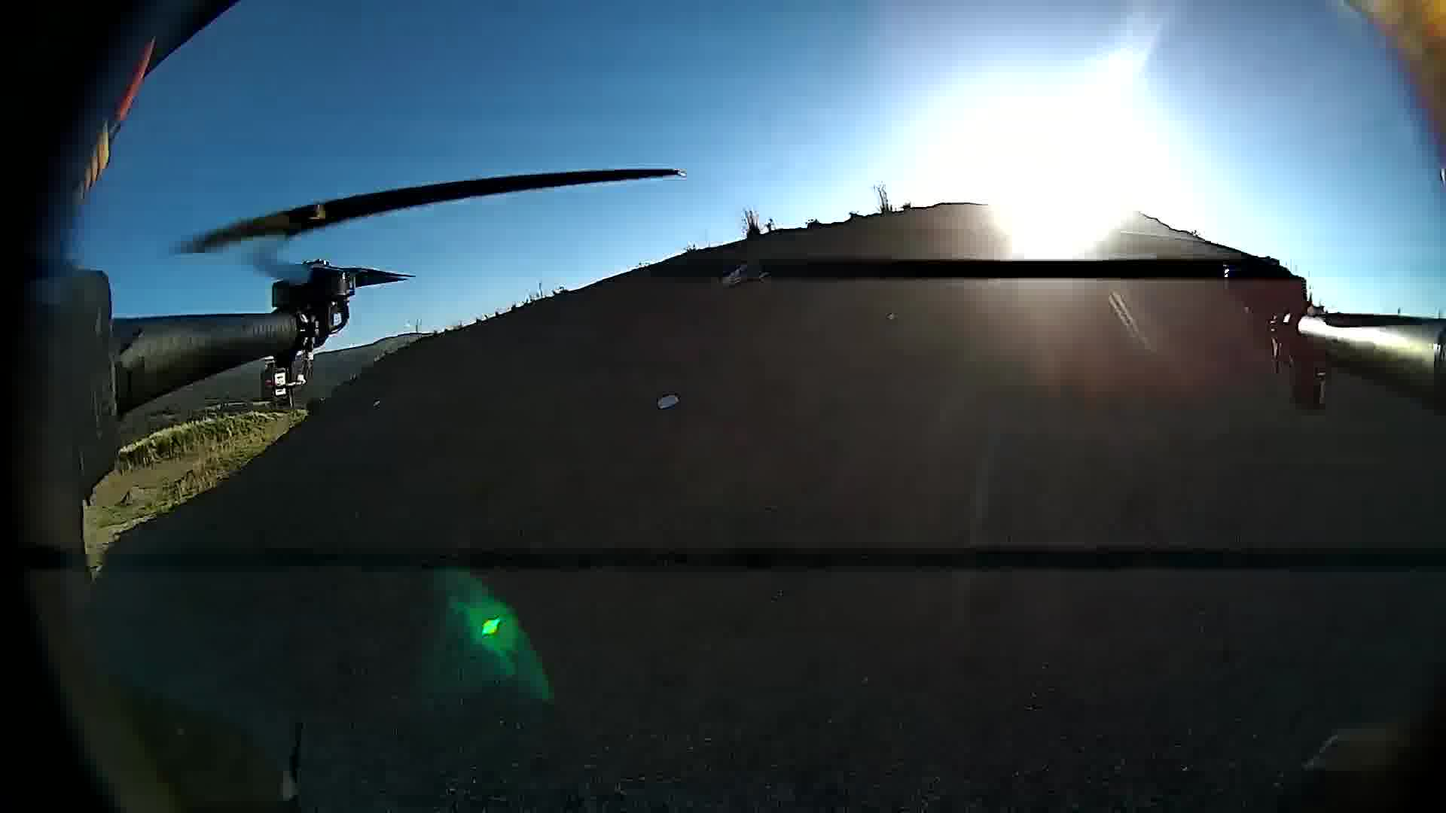Target: (653, 388, 686, 412)
